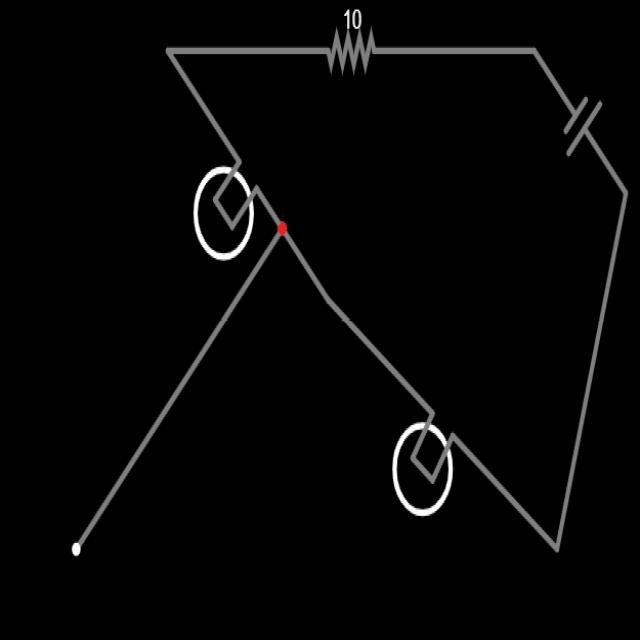Battery: (563, 95, 604, 164)
Light Bulb: (392, 418, 452, 517), (194, 165, 255, 261)
Resistor: (326, 29, 375, 74)
Wire: (72, 233, 280, 556), (553, 191, 628, 559), (448, 426, 559, 557), (329, 299, 434, 418), (163, 40, 243, 165), (278, 228, 333, 309), (532, 45, 578, 115), (585, 128, 629, 199), (163, 44, 329, 55), (373, 47, 537, 56), (254, 185, 280, 225)
